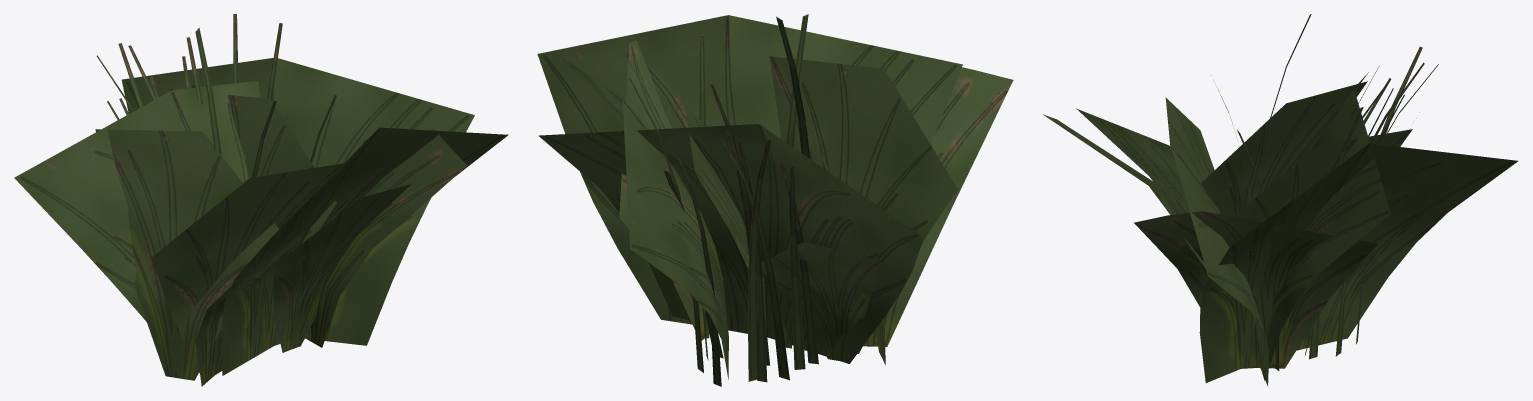
Rendered from SM_TallGrass_Clump3.fbx.
3 renders of one model, left to right at view 1: azimuth 30°, elevation 25°; view 2: azimuth 150°, elevation 25°; view 3: azimuth 270°, elevation 25°, orthographic. The views are drawn at different scales.
Visible parts, largest first — view 1: SM_TallGrass_Clump3; view 2: SM_TallGrass_Clump3; view 3: SM_TallGrass_Clump3.
Part boxes in pixels (x1,y1,x2,y2): SM_TallGrass_Clump3: [14, 14, 508, 386]; SM_TallGrass_Clump3: [537, 14, 1013, 386]; SM_TallGrass_Clump3: [1043, 14, 1518, 386].
Size of the model in its own units: 262 by 257 by 190.
